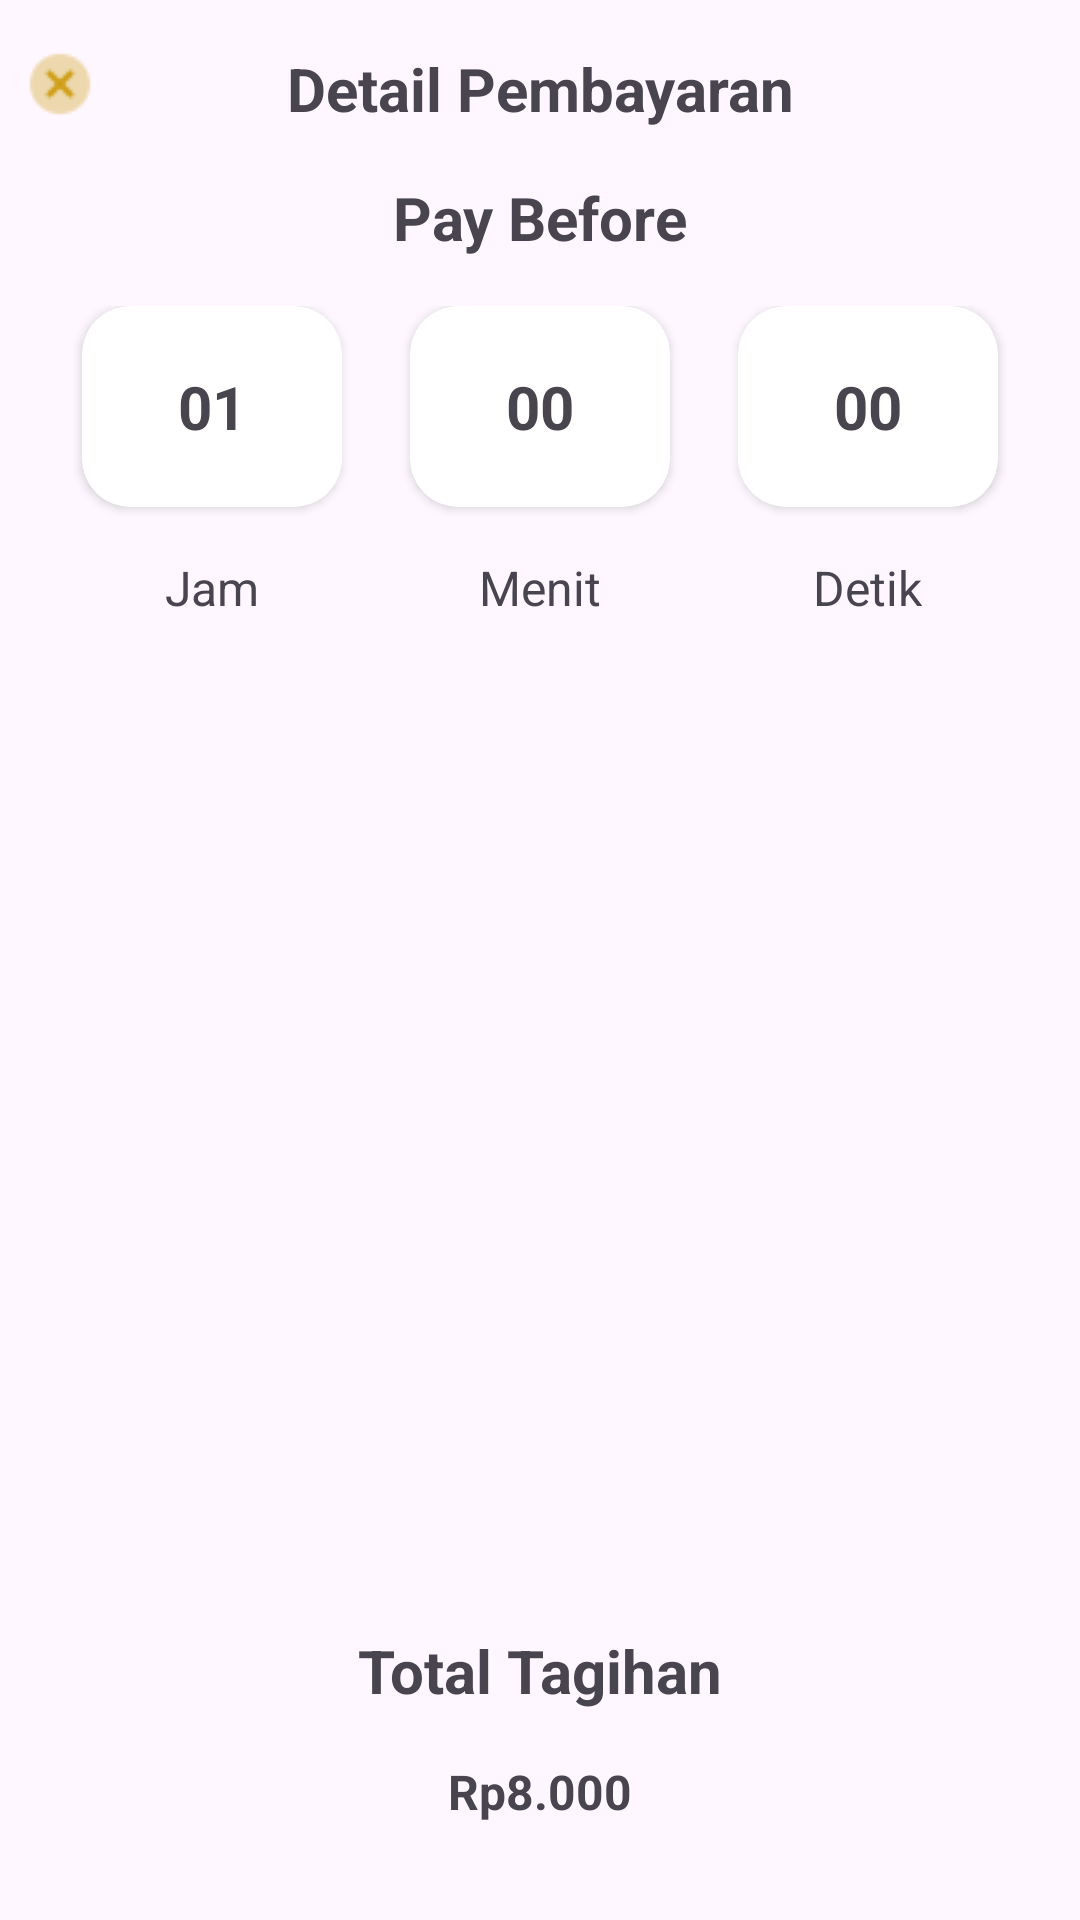

Where to tap for icons on this 1080px×1920px app screen, as point (x, y):
close: point (60, 84)
